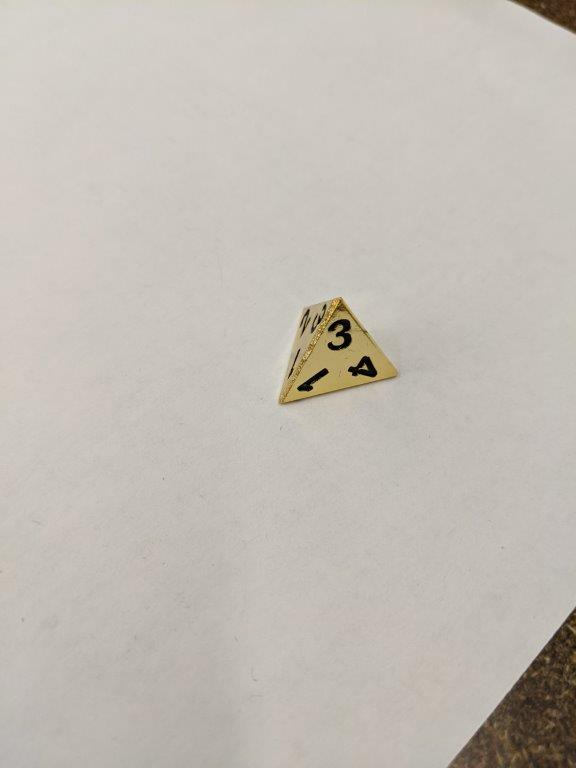d4-3: (271, 290, 403, 412)
